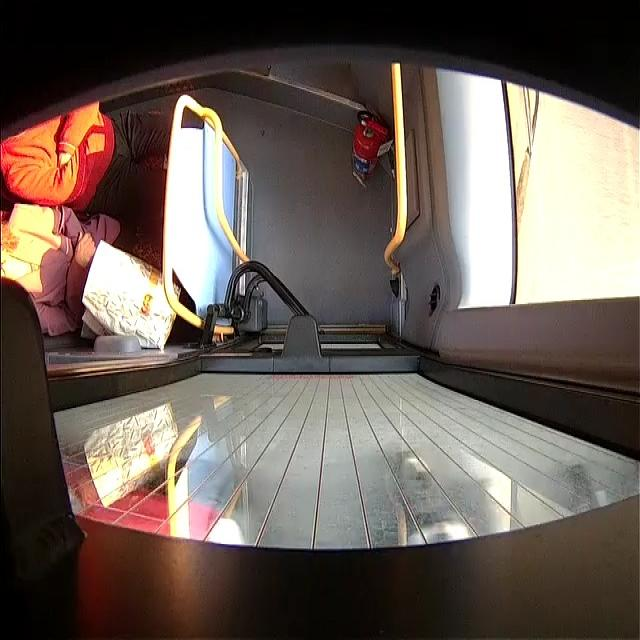bus-door: (11, 356, 639, 594)
